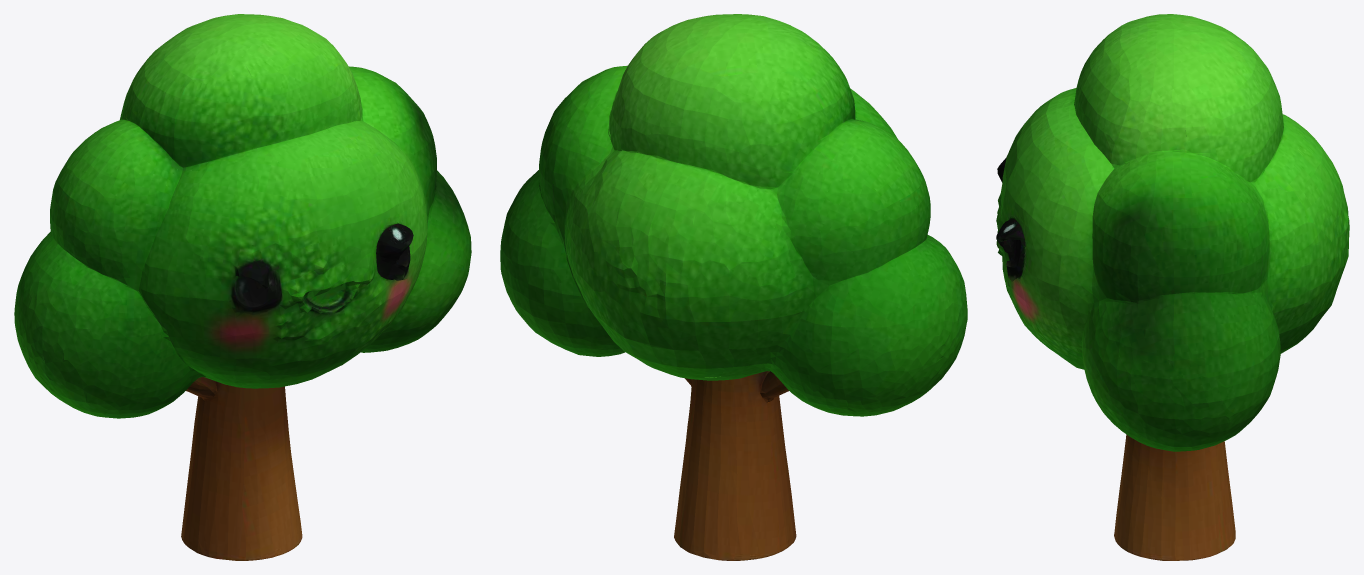
Rendered from tree.glb.
3 views of the same model, side by side, from view 1: azimuth 30°, elevation 25°; view 2: azimuth 150°, elevation 25°; view 3: azimuth 270°, elevation 25° (orthographic).
Visible parts, largest first — view 1: geometry_0; view 2: geometry_0; view 3: geometry_0.
Boxes of the visible parts, x1,y1,x2,y2 form: geometry_0: (14,14,471,560); geometry_0: (500,14,967,560); geometry_0: (996,14,1349,560).
Bounding box in the file's own units: 0.8907 × 1 × 0.6321.
1 material, 1 textured.
